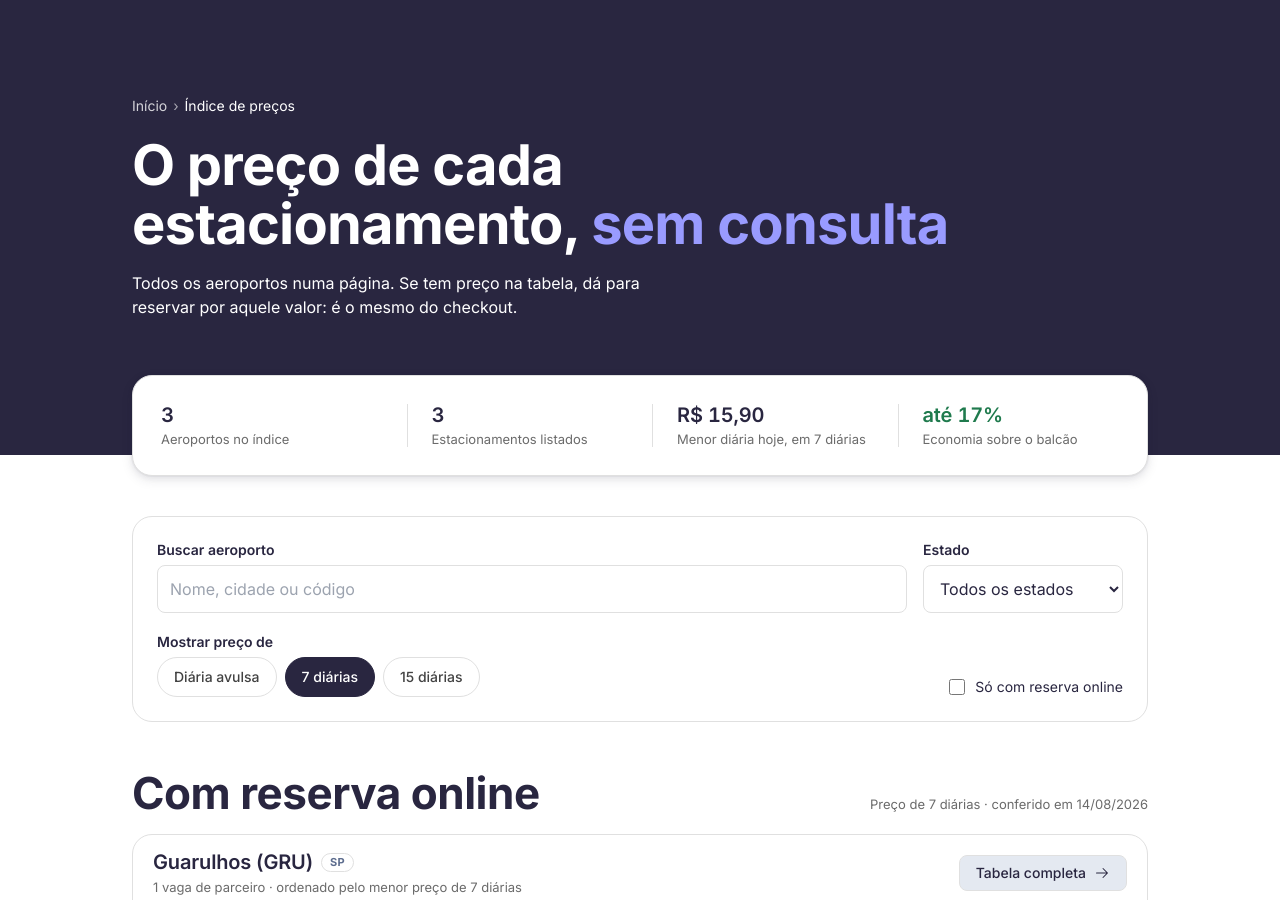
it: PrecosPage › o filtro de estado corta pelo UF
Select "MG" in the dropdown labelled "Estado" at (1023, 589), box [923, 565, 1123, 613]
(page scrolled)
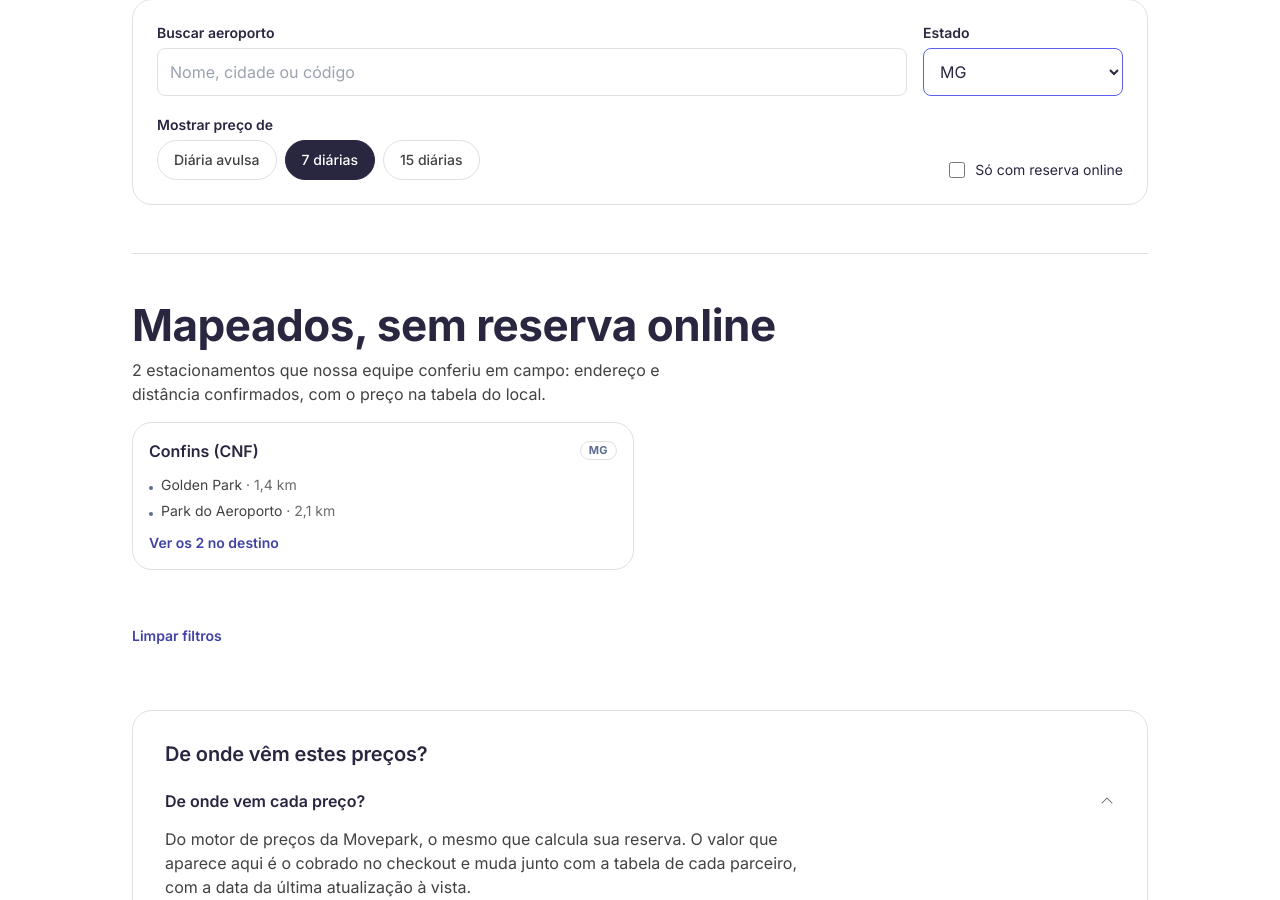
Check: the heading "Confins (CNF)" is shown, box [149, 439, 259, 463]
Check: the link "Guarulhos (GRU)" is gone
